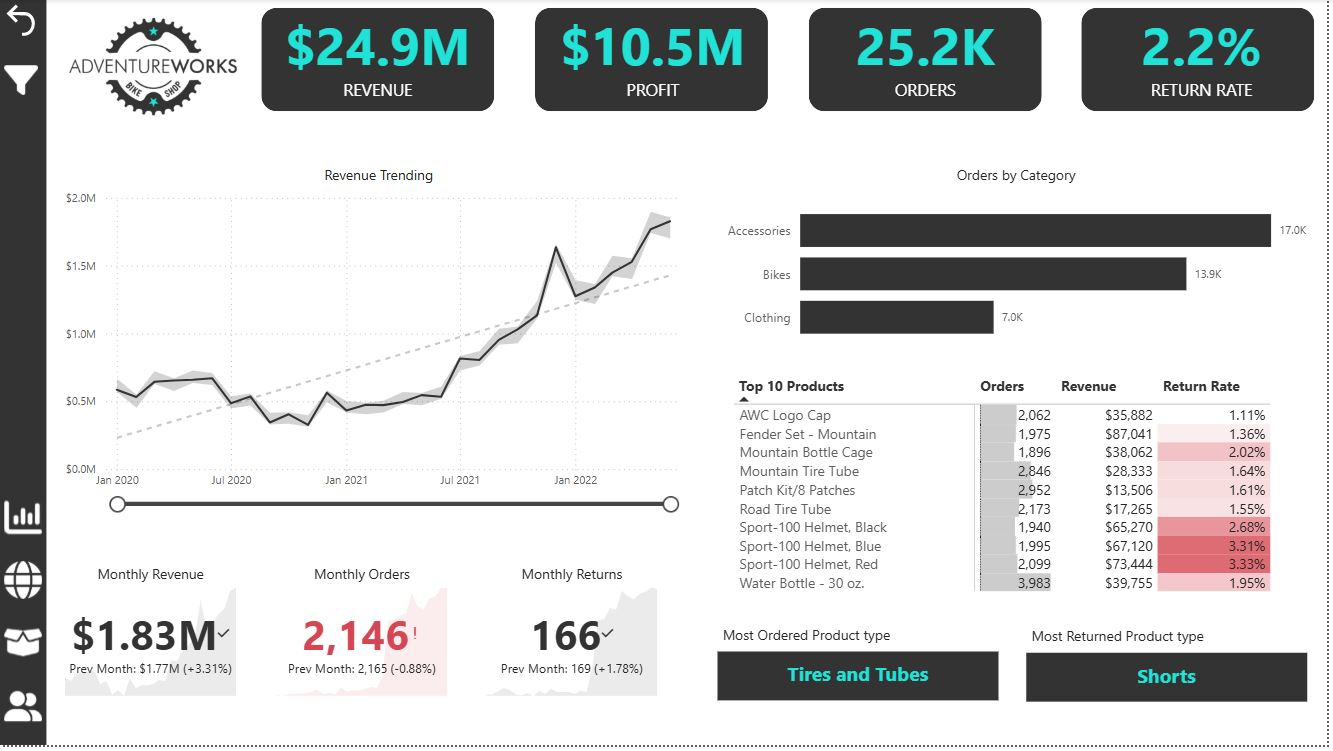

This screenshot's page, from the dashboard's own definition file:
{"tool":"powerbi","page":{"name":"Exec Dashboard","canvas":[1280,720],"ordinal":0},"visuals":[{"type":"card","fields":{"Values":["Measure Table.Total Revenue"]},"box":[245,0,240,107.5],"z":0,"group":"g2"},{"type":"image","title":"AW Logo","box":[45,8,207,114],"z":0},{"type":"group","id":"g1","title":"KPI Backgrounds","box":[252,8,1017,100],"z":0,"group":"g3"},{"type":"shape","box":[252,8,225,100],"z":0,"group":"g1"},{"type":"actionButton","box":[0,475.9,44.5,48.4],"z":0,"group":"g4"},{"type":"shape","title":"Left Nav Background","box":[0,0,45,720],"z":1000},{"type":"group","id":"g2","title":"KPI Values","box":[245,0,1035,107.5],"z":1000,"group":"g3"},{"type":"card","fields":{"Values":["Measure Table.Total Profit"]},"box":[510,0,240,107.5],"z":1000,"group":"g2"},{"type":"shape","box":[516,8,225,100],"z":1000,"group":"g1"},{"type":"actionButton","box":[0,536.5,44.5,48.4],"z":1000,"group":"g4"},{"type":"group","id":"g3","title":"KPIs","box":[245,0,1035,108],"z":2000},{"type":"card","fields":{"Values":["Measure Table.Total Orders"]},"box":[775,0,237.5,107.5],"z":2000,"group":"g2"},{"type":"shape","box":[780,8,225,100],"z":2000,"group":"g1"},{"type":"actionButton","box":[0,597.1,44.5,48.4],"z":2000,"group":"g4"},{"type":"card","fields":{"Values":["Measure Table.Return Rate"]},"box":[1040,0,240,107.5],"z":3000,"group":"g2"},{"type":"shape","box":[1044,8,225,100],"z":3000,"group":"g1"},{"type":"lineChart","title":"Revenue Trending","fields":{"Y":["Measure Table.Total Revenue"],"Category":["Calendar Lookup.Start of Month"]},"box":[57.5,160,615,337.5],"z":3000},{"type":"actionButton","box":[0,657.8,44.5,48.4],"z":3000,"group":"g4"},{"type":"kpi","title":"Monthly Revenue","fields":{"Indicator":["Measure Table.Total Revenue"],"TrendLine":["Calendar Lookup.Start of Month"],"Goal":["Measure Table.Previous Month Revenue"]},"box":[57.5,545,175,132.5],"z":4000},{"type":"kpi","title":"Monthly Orders","fields":{"TrendLine":["Calendar Lookup.Start of Month"],"Indicator":["Measure Table.Total Orders"],"Goal":["Measure Table.Previous Month Orders"]},"box":[261.2,545,175,132.5],"z":5000},{"type":"kpi","title":"Monthly Returns","fields":{"TrendLine":["Calendar Lookup.Start of Month"],"Indicator":["Measure Table.Total Returns"],"Goal":["Measure Table.Previous Month Returns"]},"box":[465,545,175,132.5],"z":6000},{"type":"clusteredBarChart","title":"Orders by Category","fields":{"Category":["Product Category Lookup.CategoryName"],"Y":["Measure Table.Total Orders"]},"box":[692.5,160,576.2,186.2],"z":7000},{"type":"pivotTable","fields":{"Rows":["Product Lookup.ProductName"],"Values":["Measure Table.Total Orders","Measure Table.Total Revenue","Measure Table.Return Rate"]},"box":[703.8,360,532.5,225],"z":8000},{"type":"card","fields":{"Values":["Min(Product Subcategory Lookup.SubcategoryName)"]},"box":[692.5,630,271.2,47.5],"z":9000},{"type":"textbox","box":[692.5,600,225,30],"z":10000},{"type":"card","fields":{"Values":["Min(Product Subcategory Lookup.SubcategoryName)"]},"box":[990.5,631,271.2,47.5],"z":11000},{"type":"textbox","box":[990.5,601,225,30],"z":12000},{"type":"actionButton","box":[0,0,44.5,40.6],"z":13000},{"type":"group","id":"g4","title":"Navigation buttons","box":[0,475.9,44.5,230.2],"z":14000},{"type":"actionButton","box":[0,58,44.5,40.6],"z":15000}]}

Visuals, with their boxes on the page's 1280x720 design canvas (x1, y1, x2, y2). These are canvas units, not pixel positions in the 1333x751 screenshot, which may show the page scaled, cropped or inside an application window:
card - Measure Table.Total Revenue: left=245, top=0, right=485, bottom=108
"AW Logo" image: left=45, top=8, right=252, bottom=122
"KPI Backgrounds" group: left=252, top=8, right=1269, bottom=108
shape: left=252, top=8, right=477, bottom=108
actionButton: left=0, top=476, right=44, bottom=524
"Left Nav Background" shape: left=0, top=0, right=45, bottom=720
"KPI Values" group: left=245, top=0, right=1280, bottom=108
card - Measure Table.Total Profit: left=510, top=0, right=750, bottom=108
shape: left=516, top=8, right=741, bottom=108
actionButton: left=0, top=536, right=44, bottom=585
"KPIs" group: left=245, top=0, right=1280, bottom=108
card - Measure Table.Total Orders: left=775, top=0, right=1012, bottom=108
shape: left=780, top=8, right=1005, bottom=108
actionButton: left=0, top=597, right=44, bottom=646
card - Measure Table.Return Rate: left=1040, top=0, right=1280, bottom=108
shape: left=1044, top=8, right=1269, bottom=108
"Revenue Trending" lineChart: left=58, top=160, right=672, bottom=498
actionButton: left=0, top=658, right=44, bottom=706
"Monthly Revenue" kpi: left=58, top=545, right=232, bottom=678
"Monthly Orders" kpi: left=261, top=545, right=436, bottom=678
"Monthly Returns" kpi: left=465, top=545, right=640, bottom=678
"Orders by Category" clusteredBarChart: left=692, top=160, right=1269, bottom=346
pivotTable - Product Lookup.ProductName x Measure Table.Total Orders: left=704, top=360, right=1236, bottom=585
card - Min(Product Subcategory Lookup.SubcategoryName): left=692, top=630, right=964, bottom=678
textbox: left=692, top=600, right=918, bottom=630
card - Min(Product Subcategory Lookup.SubcategoryName): left=990, top=631, right=1262, bottom=678
textbox: left=990, top=601, right=1216, bottom=631
actionButton: left=0, top=0, right=44, bottom=41
"Navigation buttons" group: left=0, top=476, right=44, bottom=706
actionButton: left=0, top=58, right=44, bottom=99
